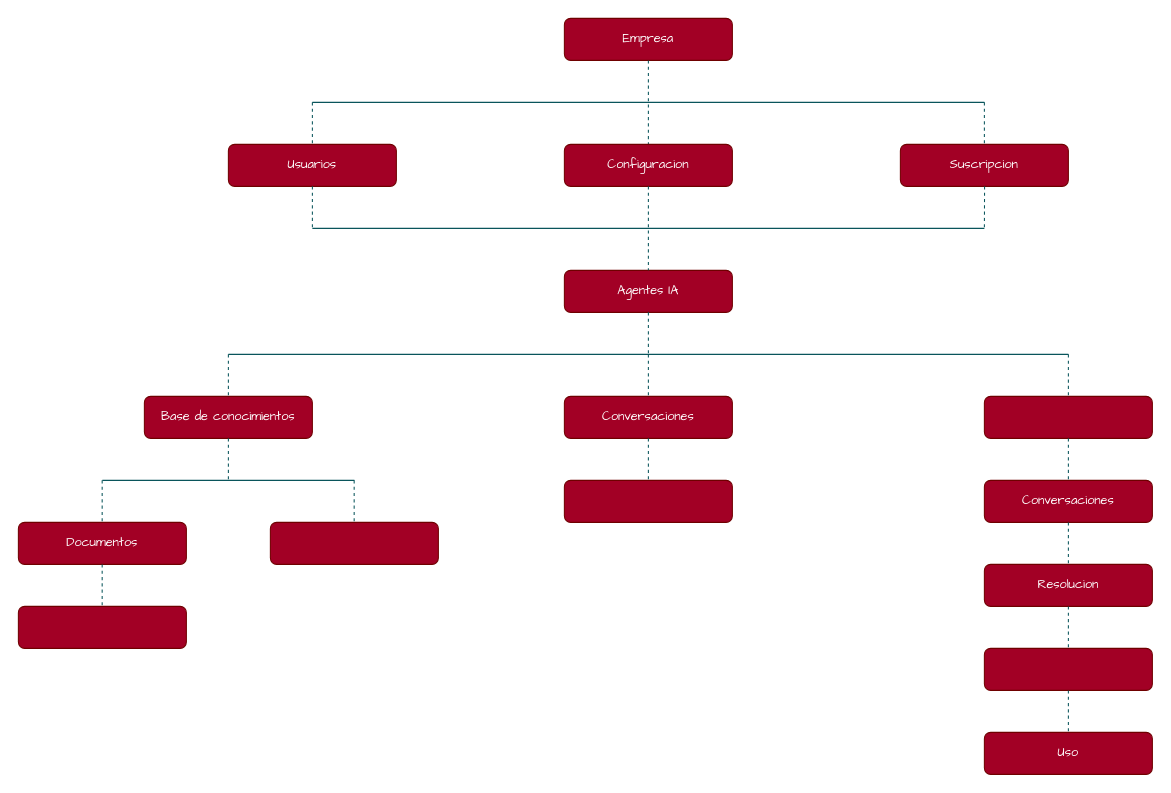
This 1171x793 diagram has some shape labels left out. Each missing label, with the centre of its shape:
"Analytics" belongs at (x=1067, y=416).
"FAQ" belongs at (x=353, y=542).
"Fragmentos" belongs at (x=101, y=626).
"Mensajes" belongs at (x=647, y=500).
"Tokens" belongs at (x=1067, y=668).
